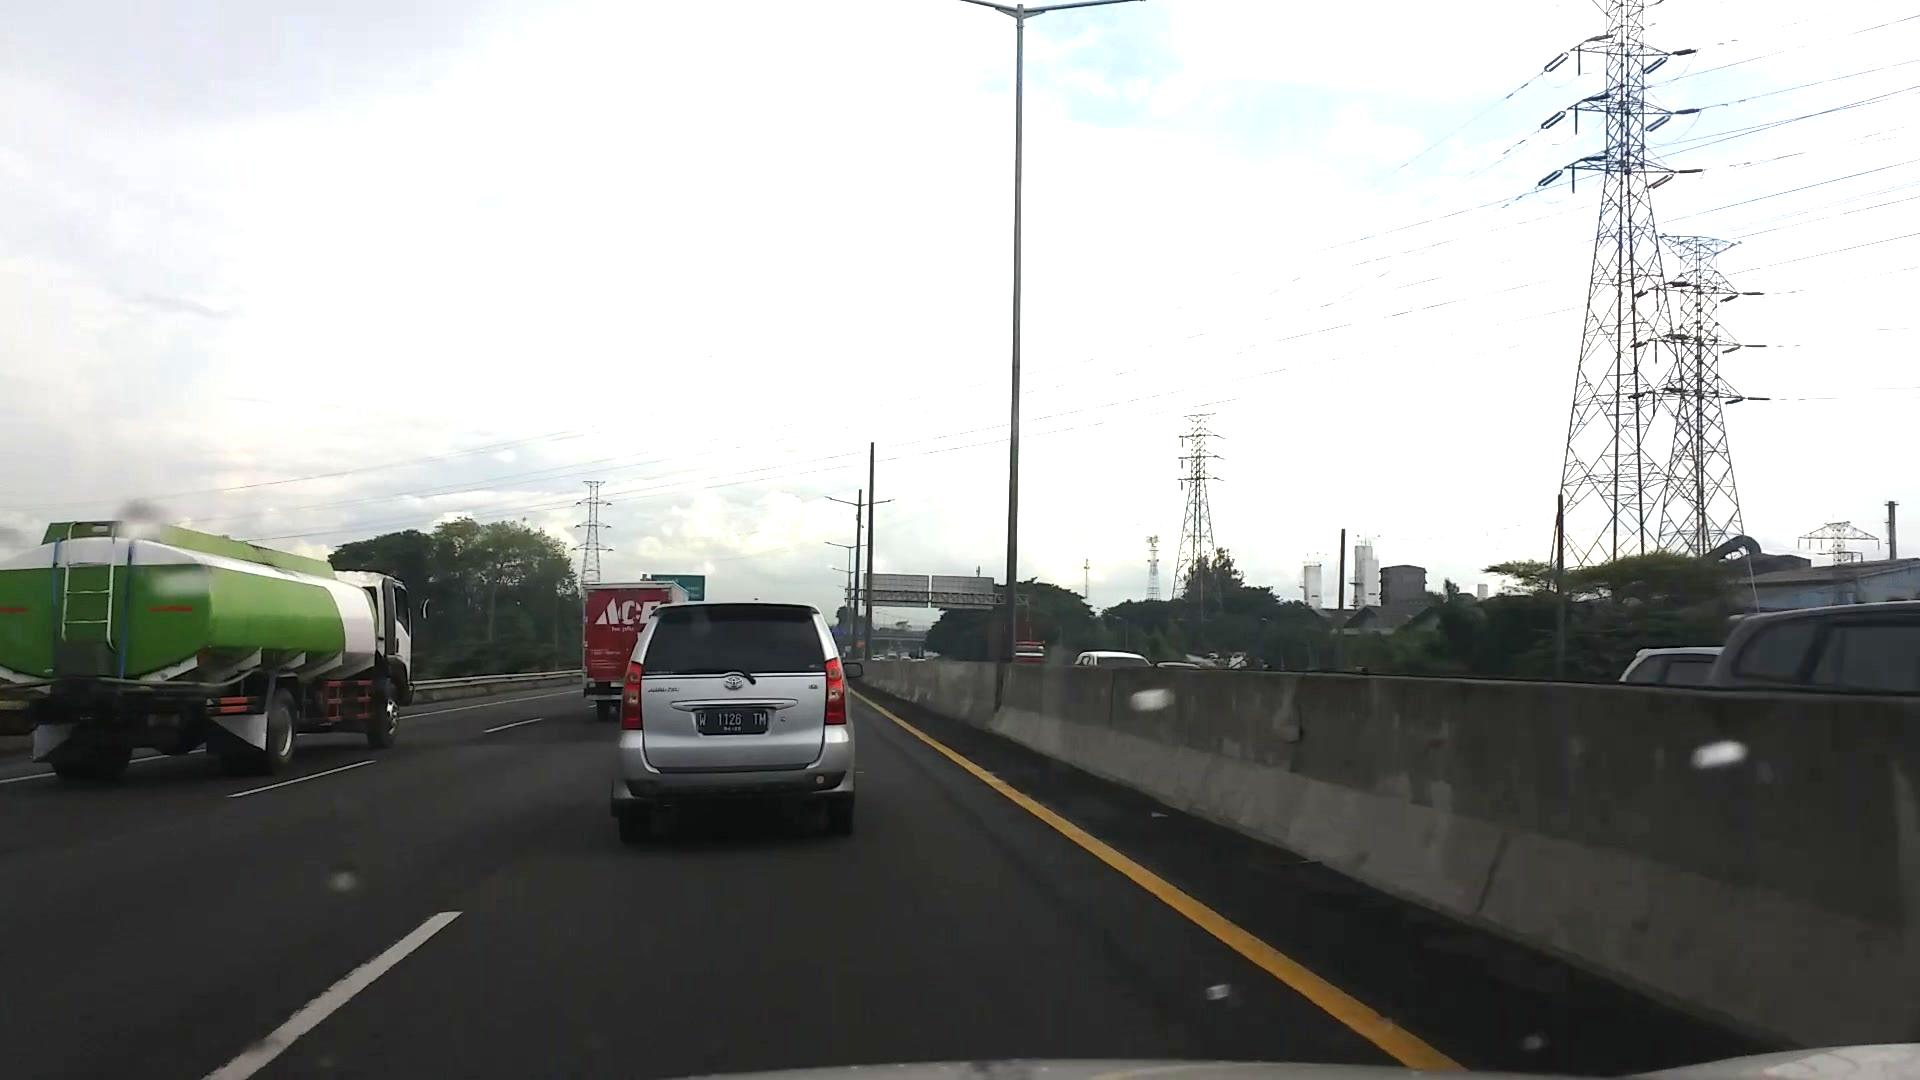plate_positive: (696, 709, 767, 735)
